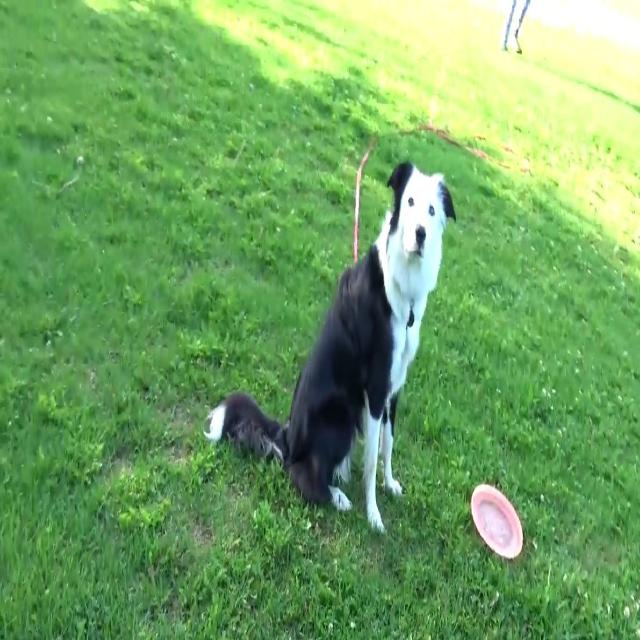Dog: (204, 157, 456, 538)
